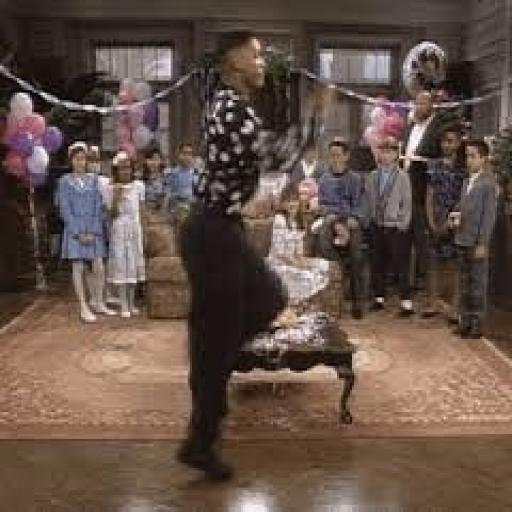dancing: (52, 34, 359, 478)
